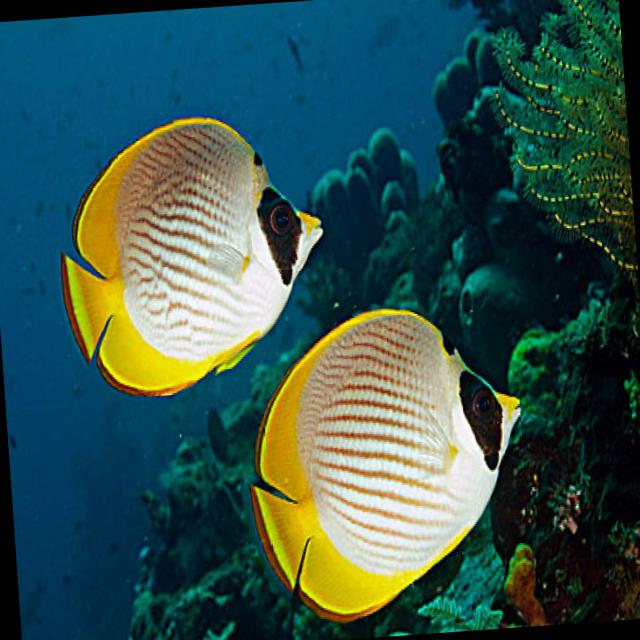ButterflyFish: (243, 304, 534, 622), (54, 104, 332, 401)
